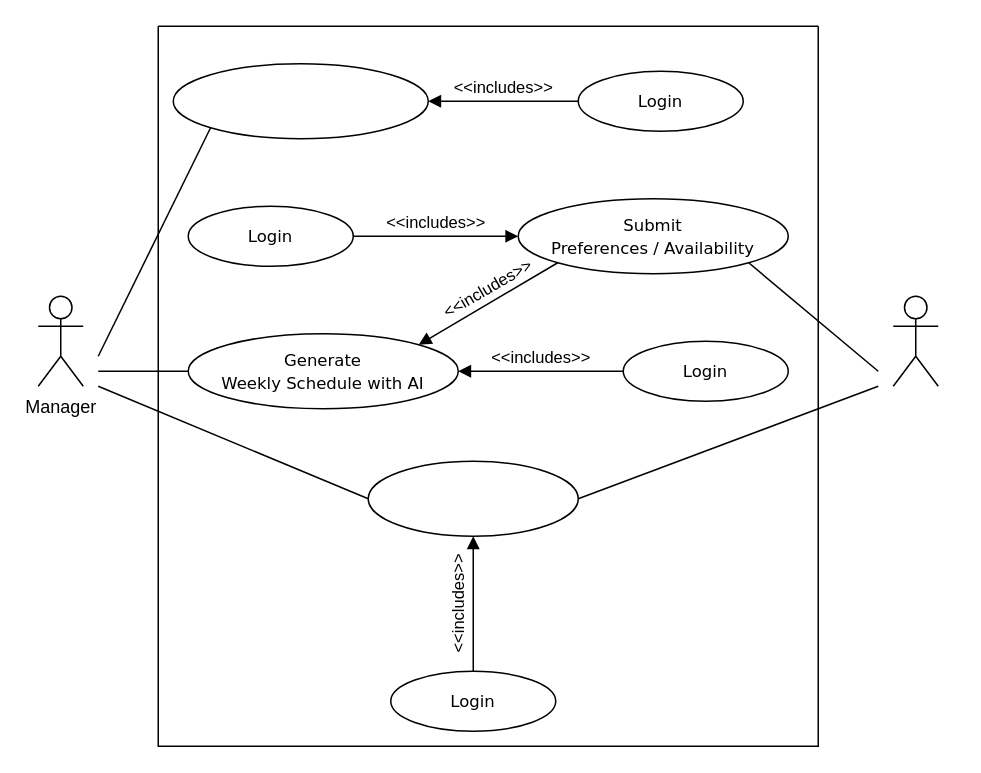
Some shapes in this 981 by 773 pixel diagram are drawn without their labels. Here are the shapes that lost their labels. From the top down, the centre of each, then its label:
At [300,100]: "Create / Delete Employee Profile".
At [915,340]: "Employee".
At [472,498]: "View Final Schedule".
